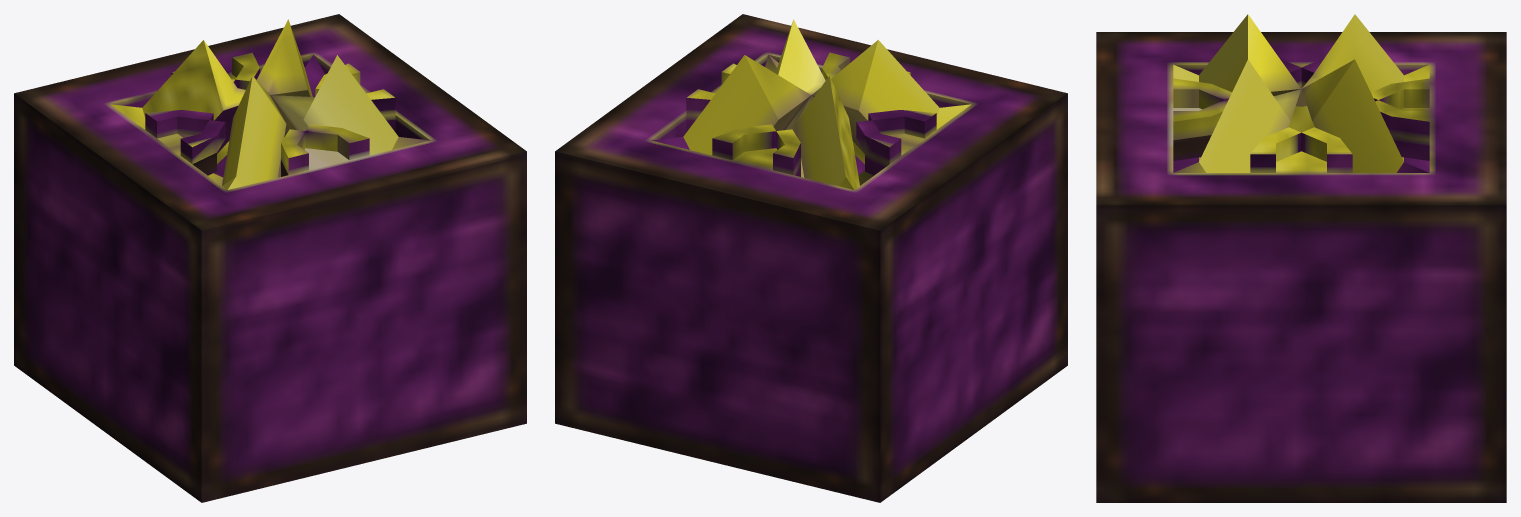
File: sunraycollector.obj
The picture shows the model from 3 angles, left to right: view 1: azimuth 30°, elevation 25°; view 2: azimuth 150°, elevation 25°; view 3: azimuth 270°, elevation 25°; orthographic projection. The views are drawn at different scales.
Visible parts, largest first — view 1: pCube1; view 2: pCube1; view 3: pCube1.
Boxes of the visible parts, x1,y1,x2,y2 form: pCube1: (14,14,526,502); pCube1: (555,14,1067,502); pCube1: (1096,14,1506,502).
Bounding box in the file's own units: 1 × 1.02 × 1.
